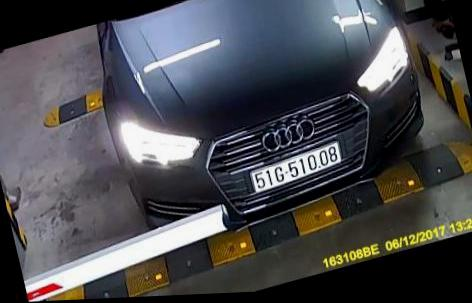License_Plate: (248, 140, 341, 201)
